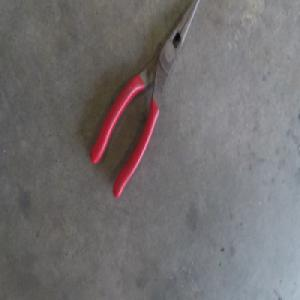Pliers: (89, 1, 199, 198)
